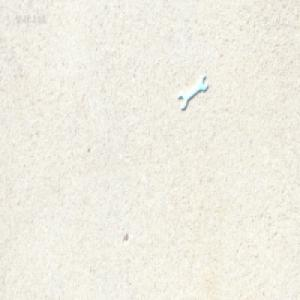Wrench: (178, 75, 207, 110)
